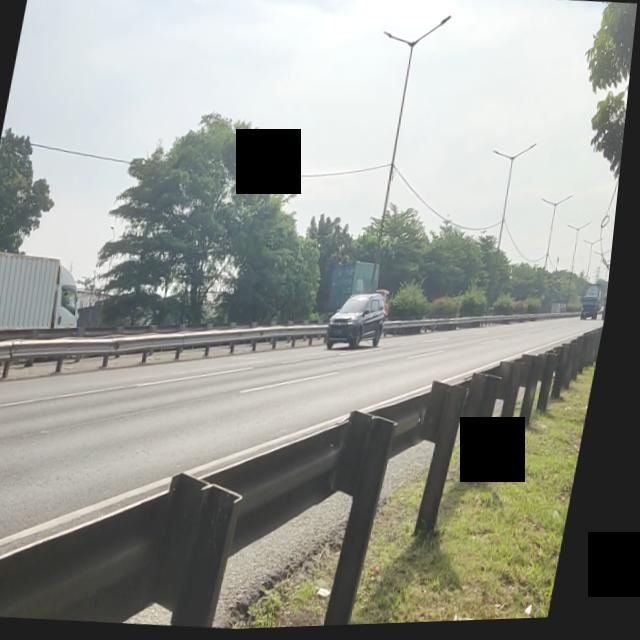Golongan I: (326, 285, 402, 362)
